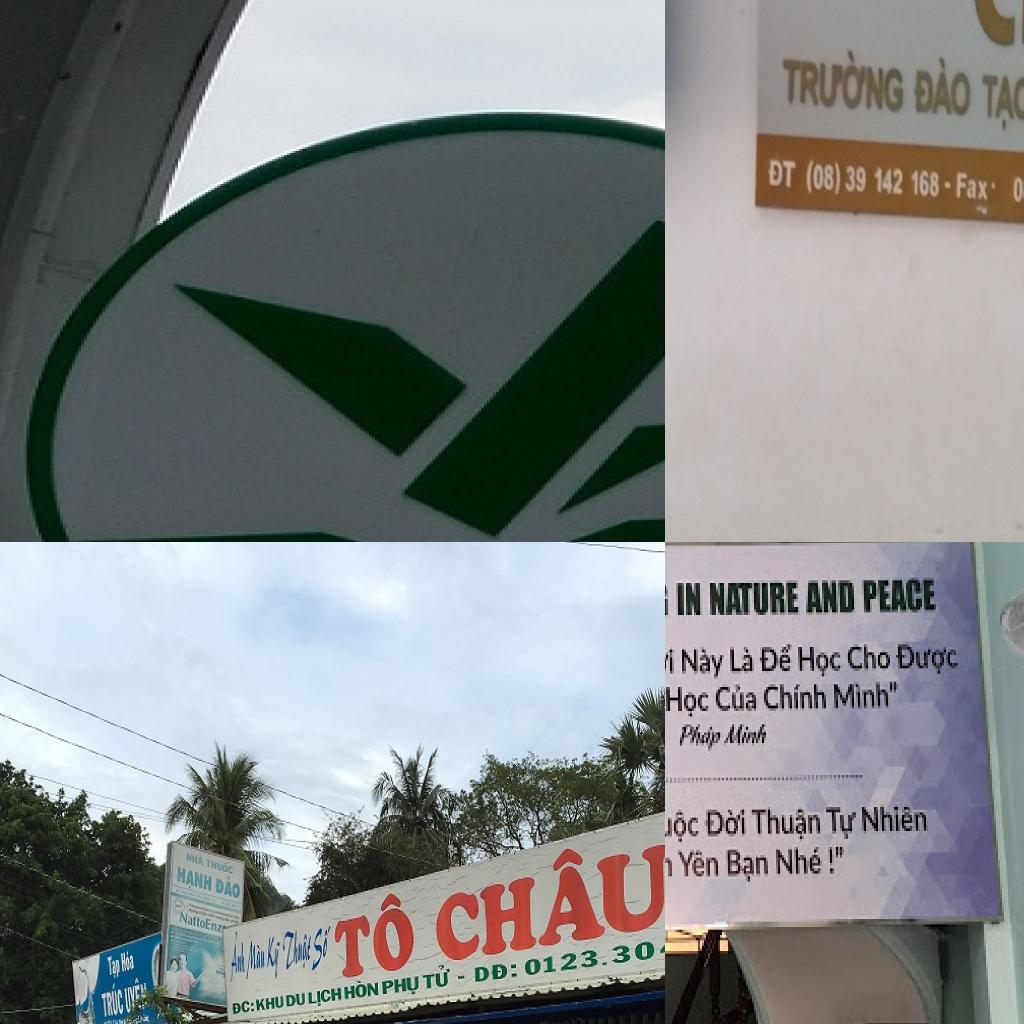text: (431, 816, 665, 965), (780, 40, 906, 118), (333, 884, 421, 980), (803, 157, 941, 203), (704, 575, 804, 618), (911, 53, 973, 120), (860, 572, 942, 618), (858, 799, 934, 844), (750, 804, 826, 847), (979, 69, 1024, 134), (830, 679, 904, 716), (760, 679, 832, 716), (894, 639, 960, 676), (718, 847, 770, 892), (665, 679, 712, 727), (804, 578, 858, 618), (722, 716, 774, 756), (712, 676, 762, 716), (796, 636, 842, 679), (678, 639, 726, 679), (844, 639, 890, 679), (670, 722, 724, 754), (822, 802, 860, 847), (702, 804, 752, 836), (665, 804, 702, 846), (281, 929, 313, 976), (678, 850, 722, 884), (760, 636, 796, 676), (475, 958, 520, 986), (177, 864, 213, 898), (956, 167, 990, 202), (178, 909, 224, 934), (311, 924, 333, 976), (672, 580, 704, 615), (726, 639, 758, 674), (123, 974, 149, 1016), (98, 980, 125, 1020), (766, 158, 797, 192), (343, 976, 380, 1004), (229, 929, 247, 986), (382, 974, 422, 999), (265, 934, 284, 983), (246, 938, 266, 983), (422, 964, 453, 993), (308, 985, 342, 1010), (213, 874, 243, 900), (206, 856, 236, 877), (665, 847, 678, 895), (256, 992, 285, 1012), (231, 995, 255, 1017), (665, 639, 678, 679), (106, 953, 123, 982), (286, 990, 308, 1010), (120, 948, 136, 973), (186, 849, 204, 868), (455, 970, 467, 983)
